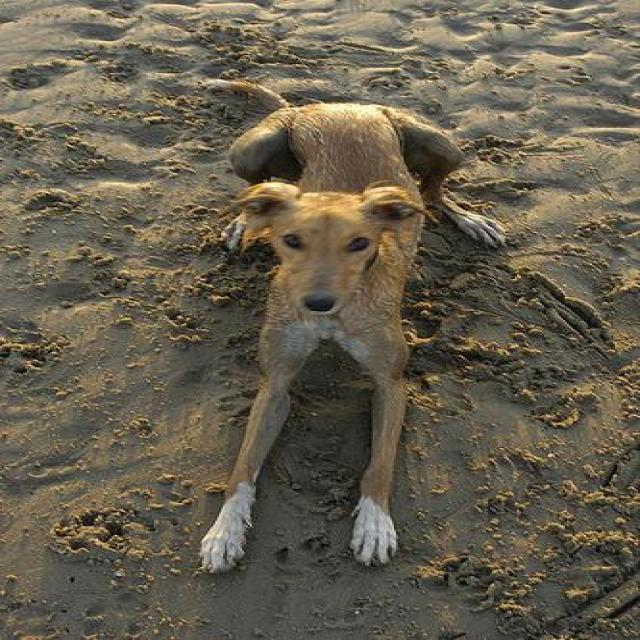saluki: (186, 80, 509, 574)
